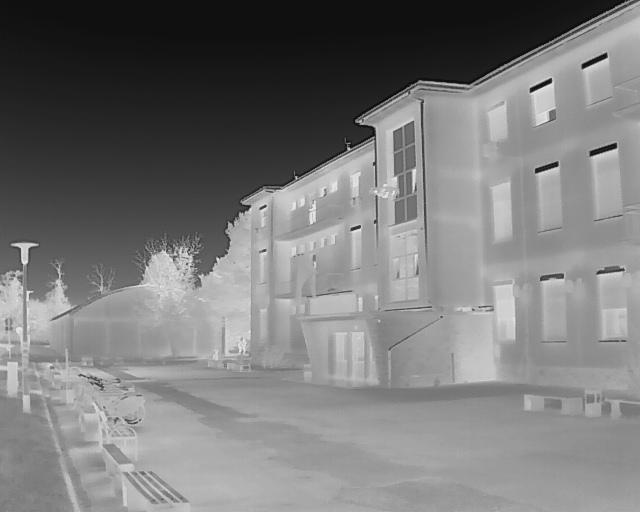drone: (366, 185, 398, 208)
